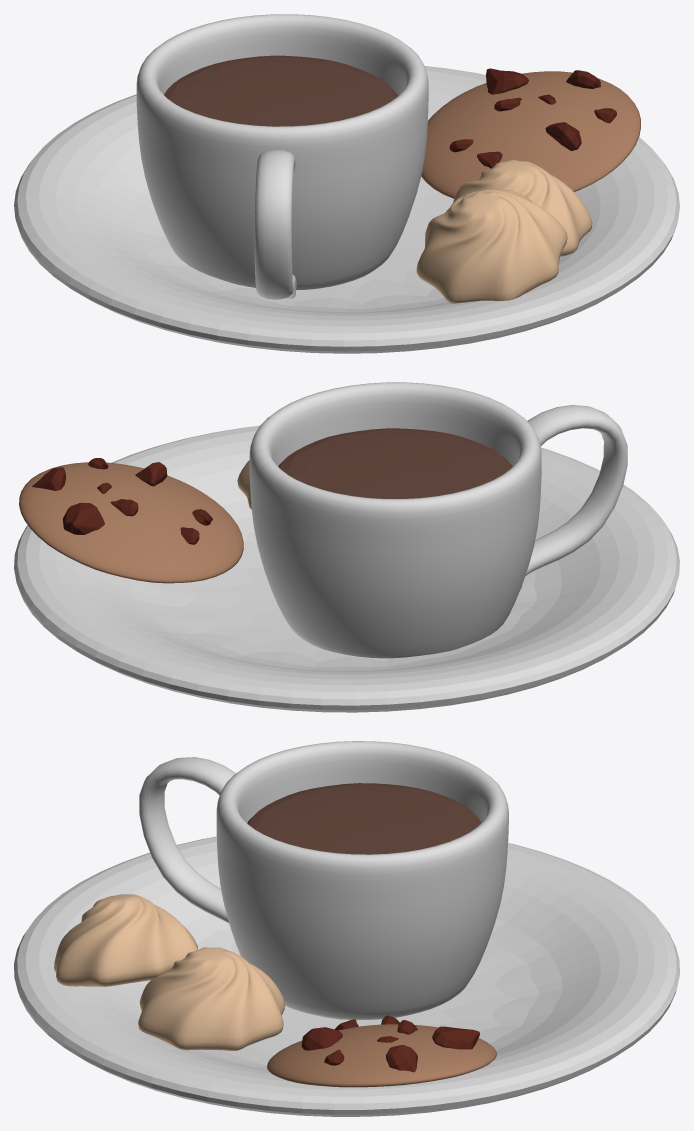
The model's file is Coffe_Cat2.fbx.
3 renders of one model, top to bottom at view 1: azimuth 30°, elevation 25°; view 2: azimuth 150°, elevation 25°; view 3: azimuth 270°, elevation 25°, orthographic.
Visible parts, largest first — view 1: Circle.005, Circle, Circle.003, Circle.006, Circle.002, Circle.001, Circle.004, Cube.001, Cube.002; view 2: Circle.005, Circle, Circle.003, Circle.002, Circle.001, Cube.001, Cube.005, Cube.002; view 3: Circle.005, Circle, Circle.002, Circle.004, Circle.006, Circle.003, Circle.001, Cube.001, Cube.002, Cube.005.
Boxes of the visible parts, bbox=[...] form: Circle.005: bbox=[14, 66, 679, 353]; Circle: bbox=[136, 14, 428, 289]; Circle.003: bbox=[421, 71, 640, 198]; Circle.006: bbox=[416, 189, 567, 303]; Circle.002: bbox=[164, 55, 397, 126]; Circle.001: bbox=[254, 150, 296, 299]; Circle.004: bbox=[446, 159, 592, 256]; Cube.001: bbox=[486, 68, 528, 94]; Cube.002: bbox=[545, 122, 581, 150]; Circle.005: bbox=[14, 426, 679, 712]; Circle: bbox=[249, 382, 541, 658]; Circle.003: bbox=[19, 462, 243, 583]; Circle.002: bbox=[278, 428, 512, 498]; Circle.001: bbox=[520, 405, 627, 589]; Cube.001: bbox=[63, 502, 104, 534]; Cube.005: bbox=[32, 467, 66, 490]; Cube.002: bbox=[135, 462, 167, 486]; Circle.005: bbox=[14, 836, 679, 1116]; Circle: bbox=[216, 741, 508, 1019]; Circle.002: bbox=[247, 783, 481, 854]; Circle.004: bbox=[138, 947, 285, 1050]; Circle.006: bbox=[54, 894, 197, 986]; Circle.003: bbox=[267, 1024, 496, 1087]; Circle.001: bbox=[139, 757, 235, 923]; Cube.001: bbox=[432, 1026, 479, 1049]; Cube.002: bbox=[301, 1027, 342, 1050]; Cube.005: bbox=[386, 1045, 417, 1072].
Size of the model in its own units: 596 by 202 by 589.
